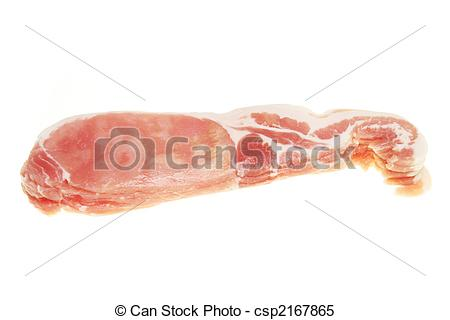bacon: (20, 104, 430, 209)
